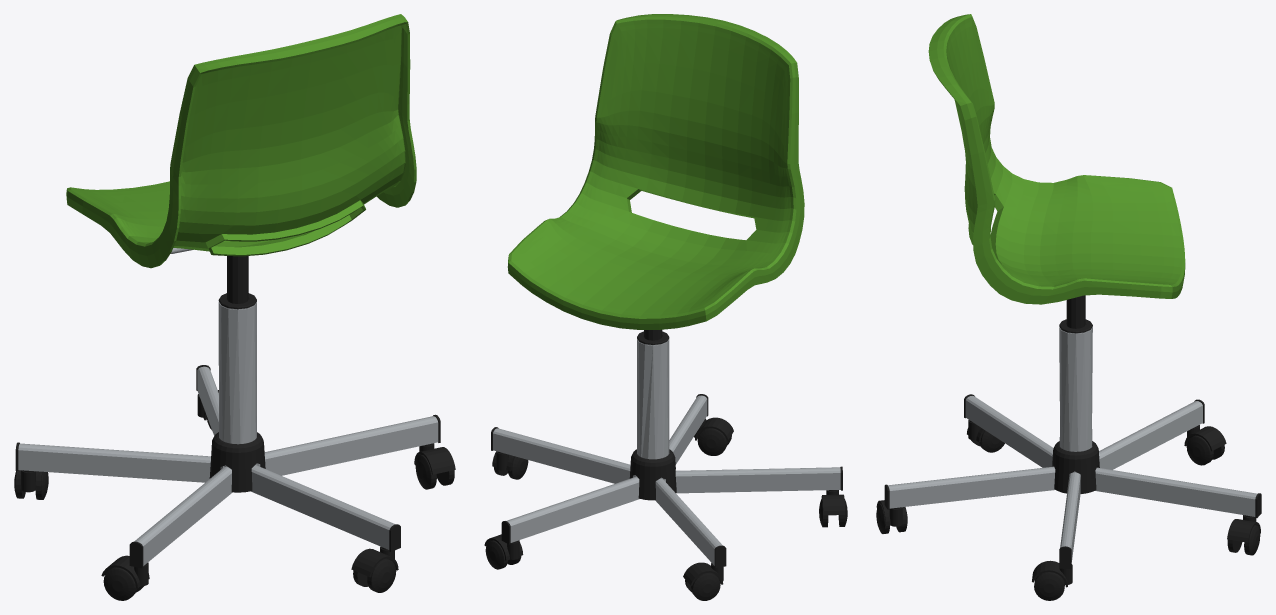
3 views of the same model, side by side, from view 1: azimuth 30°, elevation 25°; view 2: azimuth 150°, elevation 25°; view 3: azimuth 270°, elevation 25° (orthographic). The views are drawn at different scales.
Parts seen in each view (by area): view 1: Mesh2 Group2 SNILLE_IKEA1 Model, Mesh8 Group6 SNILLE_IKEA1 Model, Mesh7 Group5 SNILLE_IKEA1 Model, Mesh1 Group1 SNILLE_IKEA1 Model, Mesh3 Group3 SNILLE_IKEA1 Model, Mesh20 ROULETTE4 SNILLE_IKEA1 Model, Mesh15 ROULETTE3 SNILLE_IKEA1 Model, Mesh12 ROULETTE2 SNILLE_IKEA1 Model, Mesh14 ROULETTE2 SNILLE_IKEA1 Model, Mesh18 ROULETTE4 SNILLE_IKEA1 Model; view 2: Mesh2 Group2 SNILLE_IKEA1 Model, Mesh8 Group6 SNILLE_IKEA1 Model, Mesh7 Group5 SNILLE_IKEA1 Model, Mesh1 Group1 SNILLE_IKEA1 Model, Mesh13 ROULETTE2 SNILLE_IKEA1 Model, Mesh11 ROULETTE1 SNILLE_IKEA1 Model, Mesh9 ROULETTE1 SNILLE_IKEA1 Model, Mesh18 ROULETTE4 SNILLE_IKEA1 Model; view 3: Mesh2 Group2 SNILLE_IKEA1 Model, Mesh8 Group6 SNILLE_IKEA1 Model, Mesh7 Group5 SNILLE_IKEA1 Model, Mesh1 Group1 SNILLE_IKEA1 Model, Mesh3 Group3 SNILLE_IKEA1 Model, Mesh17 ROULETTE3 SNILLE_IKEA1 Model, Mesh21 ROULETTE5 SNILLE_IKEA1 Model, Mesh10 ROULETTE1 SNILLE_IKEA1 Model, Mesh9 ROULETTE1 SNILLE_IKEA1 Model, Mesh15 ROULETTE3 SNILLE_IKEA1 Model.
Boxes of the visible parts, x1,y1,x2,y2 form: Mesh2 Group2 SNILLE_IKEA1 Model: (66,14,416,268); Mesh8 Group6 SNILLE_IKEA1 Model: (15,365,440,568); Mesh7 Group5 SNILLE_IKEA1 Model: (218,302,256,444); Mesh1 Group1 SNILLE_IKEA1 Model: (209,432,265,492); Mesh3 Group3 SNILLE_IKEA1 Model: (218,256,256,309); Mesh20 ROULETTE4 SNILLE_IKEA1 Model: (103,567,136,600); Mesh15 ROULETTE3 SNILLE_IKEA1 Model: (414,443,455,474); Mesh12 ROULETTE2 SNILLE_IKEA1 Model: (351,546,398,577); Mesh14 ROULETTE2 SNILLE_IKEA1 Model: (367,558,396,592); Mesh18 ROULETTE4 SNILLE_IKEA1 Model: (101,555,149,588); Mesh2 Group2 SNILLE_IKEA1 Model: (507,14,804,329); Mesh8 Group6 SNILLE_IKEA1 Model: (491,394,842,567); Mesh7 Group5 SNILLE_IKEA1 Model: (637,339,669,459); Mesh1 Group1 SNILLE_IKEA1 Model: (629,449,676,500); Mesh13 ROULETTE2 SNILLE_IKEA1 Model: (697,428,727,455); Mesh11 ROULETTE1 SNILLE_IKEA1 Model: (691,572,720,600); Mesh9 ROULETTE1 SNILLE_IKEA1 Model: (683,562,723,585); Mesh18 ROULETTE4 SNILLE_IKEA1 Model: (821,490,844,515); Mesh2 Group2 SNILLE_IKEA1 Model: (928,14,1185,304); Mesh8 Group6 SNILLE_IKEA1 Model: (884,394,1261,568); Mesh7 Group5 SNILLE_IKEA1 Model: (1059,327,1092,451); Mesh1 Group1 SNILLE_IKEA1 Model: (1052,441,1099,493); Mesh3 Group3 SNILLE_IKEA1 Model: (1059,295,1092,333); Mesh17 ROULETTE3 SNILLE_IKEA1 Model: (1034,572,1064,600); Mesh21 ROULETTE5 SNILLE_IKEA1 Model: (1227,515,1260,542); Mesh10 ROULETTE1 SNILLE_IKEA1 Model: (1186,435,1213,465); Mesh9 ROULETTE1 SNILLE_IKEA1 Model: (1184,425,1226,451); Mesh15 ROULETTE3 SNILLE_IKEA1 Model: (1032,560,1072,587).
Bounding box in the file's own units: 0.5908 × 0.7973 × 0.593.
